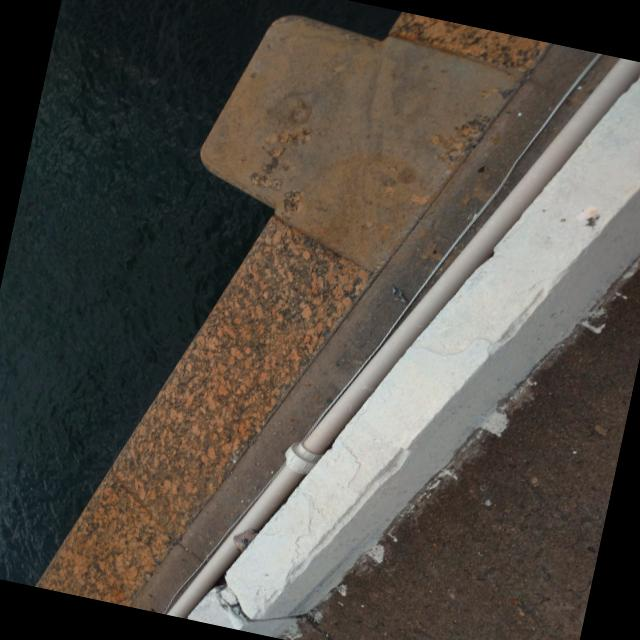gas: (162, 57, 640, 618)
